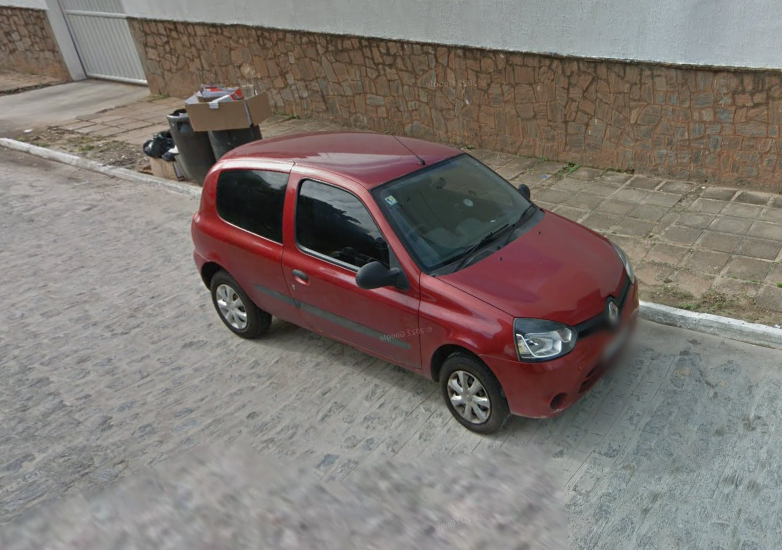car: (186, 127, 643, 438)
